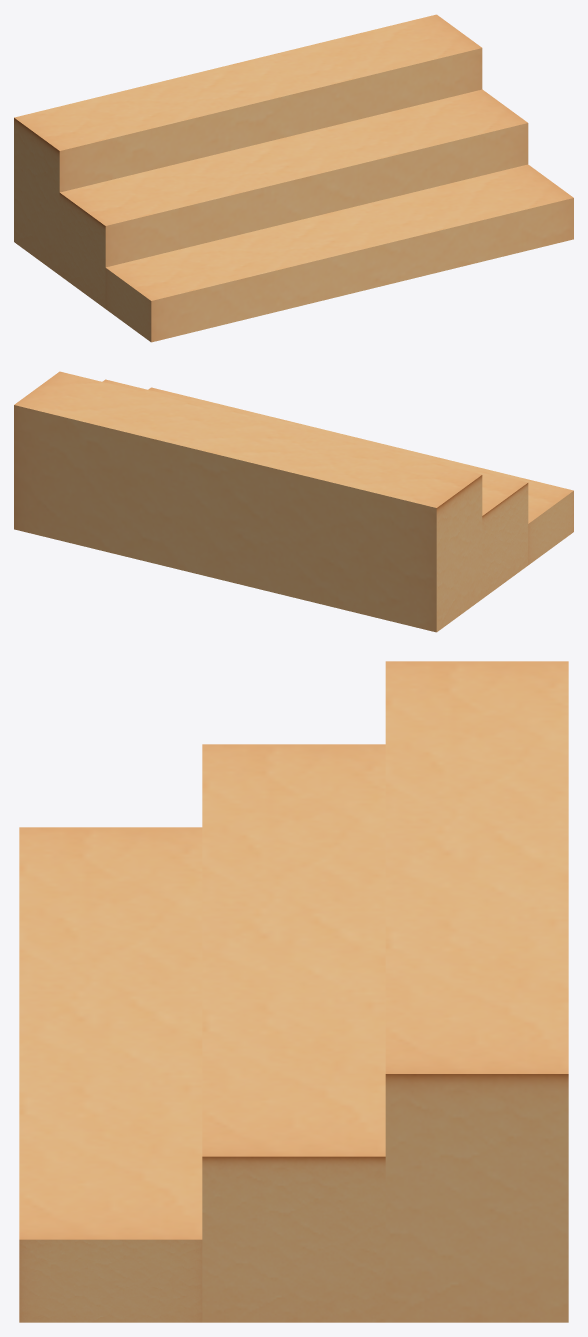
File: Steps_Exterior.fbx
3 renders of one model, top to bottom at view 1: azimuth 30°, elevation 25°; view 2: azimuth 150°, elevation 25°; view 3: azimuth 270°, elevation 25°, orthographic. The views are drawn at different scales.
Visible parts, largest first — view 1: Steps_Exterior; view 2: Steps_Exterior; view 3: Steps_Exterior.
Boxes of the visible parts, x1,y1,x2,y2 form: Steps_Exterior: (14,14,573,342); Steps_Exterior: (14,371,573,632); Steps_Exterior: (19,661,568,1322).
Size of the model in its own units: 1.6 by 0.45 by 0.9.
